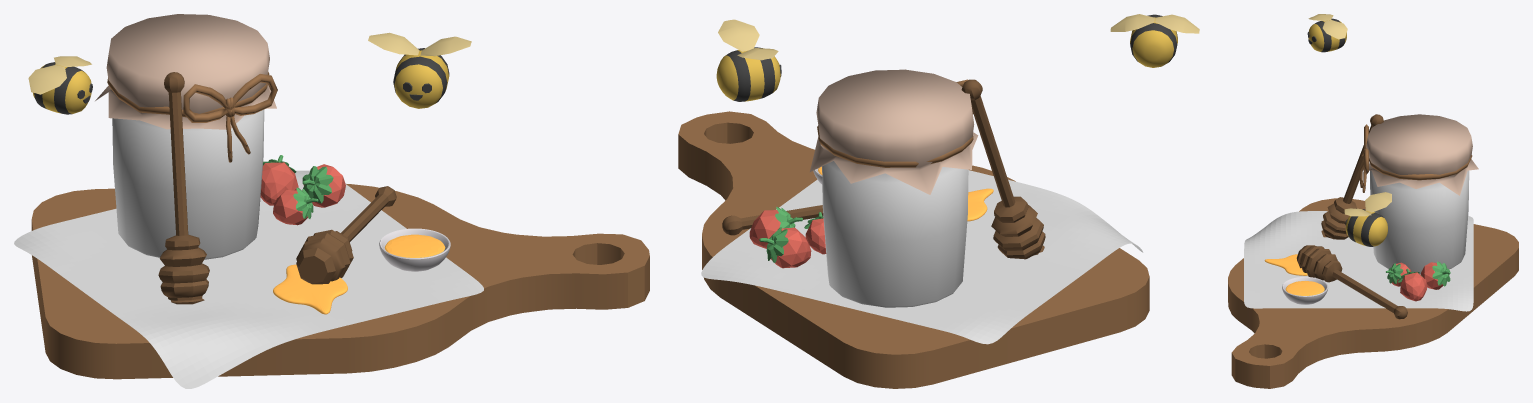
Rendered from honey pot.fbx.
3 renders of one model, left to right at view 1: azimuth 30°, elevation 25°; view 2: azimuth 150°, elevation 25°; view 3: azimuth 270°, elevation 25°, orthographic. The views are drawn at different scales.
Parts seen in each view (by area): view 1: Plane, Plane.001, Cylinder.003, Sphere.002, Cylinder.005, Sphere.001, Cylinder.004, Circle, Circle.001, Icosphere, Icosphere.001, Icosphere.002 (+1 smaller); view 2: Plane, Cylinder.003, Plane.001, Sphere.002, Cylinder.005, Cylinder.004, Icosphere.001, Icosphere, Sphere.001, Icosphere.002, Circle; view 3: Plane, Cylinder.003, Plane.001, Sphere.001, Cylinder.005, Sphere.002, Cylinder.004, Icosphere, Icosphere.001, Circle.001, Circle.002, Circle (+1 smaller).
Boxes of the visible parts, x1=… form: Plane: x1=31, y1=184, x2=649, y2=379; Plane.001: x1=14, y1=170, x2=483, y2=388; Cylinder.003: x1=95, y1=14, x2=277, y2=259; Sphere.002: x1=158, y1=72, x2=209, y2=304; Cylinder.005: x1=368, y1=32, x2=471, y2=108; Sphere.001: x1=296, y1=186, x2=396, y2=284; Cylinder.004: x1=28, y1=56, x2=92, y2=114; Circle: x1=273, y1=264, x2=347, y2=314; Circle.001: x1=379, y1=228, x2=450, y2=271; Icosphere: x1=302, y1=164, x2=345, y2=207; Icosphere.001: x1=260, y1=155, x2=298, y2=205; Icosphere.002: x1=273, y1=187, x2=318, y2=225; Plane: x1=678, y1=111, x2=1149, y2=388; Cylinder.003: x1=810, y1=69, x2=978, y2=307; Plane.001: x1=701, y1=170, x2=1143, y2=344; Sphere.002: x1=961, y1=79, x2=1045, y2=259; Cylinder.005: x1=716, y1=19, x2=781, y2=101; Cylinder.004: x1=1110, y1=14, x2=1199, y2=67; Icosphere.001: x1=759, y1=227, x2=811, y2=268; Icosphere: x1=749, y1=206, x2=802, y2=248; Sphere.001: x1=722, y1=205, x2=823, y2=235; Icosphere.002: x1=804, y1=212, x2=826, y2=254; Circle: x1=967, y1=188, x2=993, y2=221; Plane: x1=1228, y1=198, x2=1518, y2=388; Cylinder.003: x1=1359, y1=114, x2=1478, y2=274; Plane.001: x1=1244, y1=211, x2=1473, y2=311; Sphere.001: x1=1296, y1=245, x2=1407, y2=319; Cylinder.005: x1=1344, y1=192, x2=1391, y2=246; Sphere.002: x1=1321, y1=114, x2=1383, y2=239; Cylinder.004: x1=1307, y1=14, x2=1347, y2=52; Icosphere: x1=1398, y1=268, x2=1427, y2=301; Icosphere.001: x1=1420, y1=261, x2=1450, y2=289; Circle.001: x1=1282, y1=277, x2=1328, y2=304; Circle.002: x1=1285, y1=281, x2=1324, y2=295; Circle: x1=1264, y1=254, x2=1307, y2=275.
Bounding box in the file's own units: 336 × 173 × 228.
